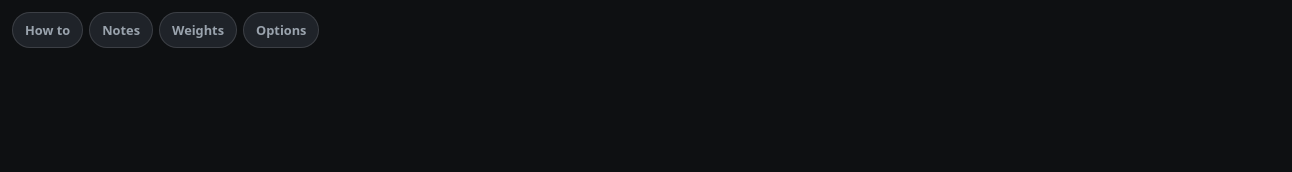
Test: a move with no load, asked to open its Weights (the review) › ignores the ask, and opens only when its tab is tapped once there is a weight
Step 1. Click the tab with test id "plates-tab" → (198, 30), box left=159, top=12, right=237, bottom=48
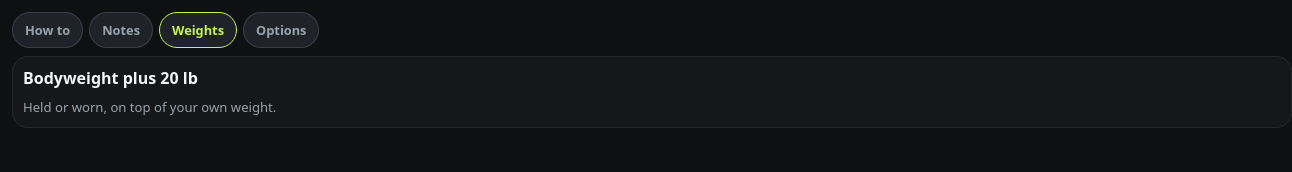
expect the panel with test id "plate-math" shows "Bodyweight plus 20 lb": met, box left=23, top=67, right=198, bottom=89
